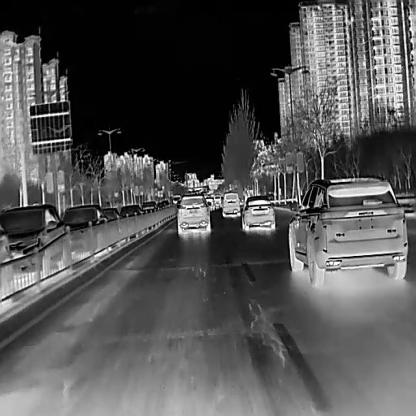car: (288, 176, 408, 286), (0, 202, 70, 272), (61, 202, 109, 255), (174, 193, 210, 235), (239, 194, 275, 230), (119, 200, 147, 236), (100, 205, 124, 243), (220, 190, 240, 217), (140, 199, 158, 222), (213, 194, 221, 208)
